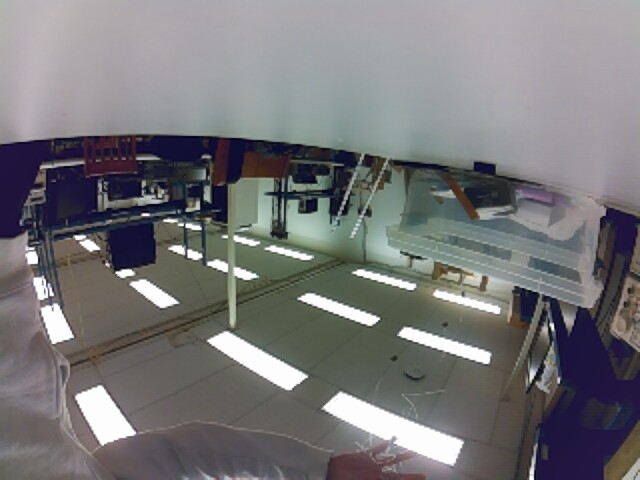mosquito: (389, 352, 400, 365), (440, 320, 450, 330), (460, 289, 466, 298)
